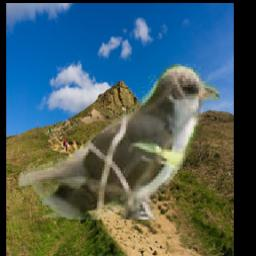Cuckoo: (19, 64, 220, 220)
